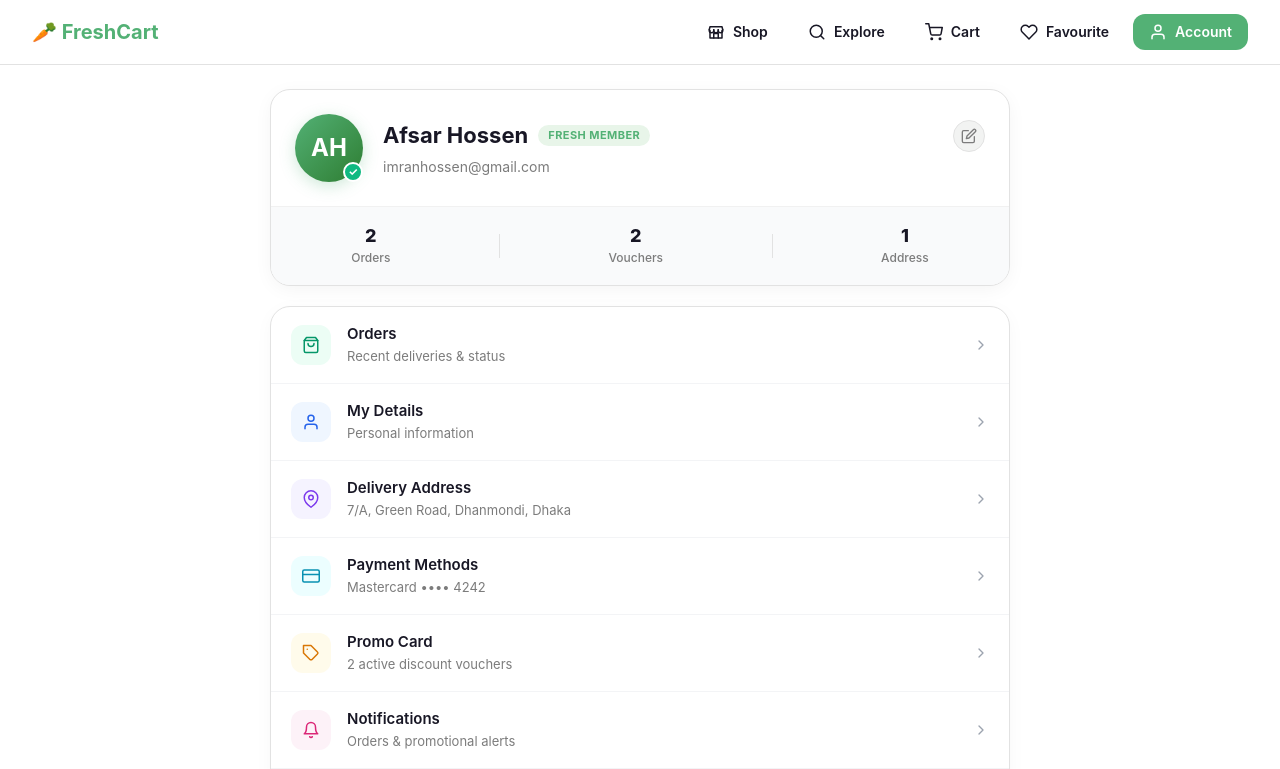
Test case: AccountPage › opens Orders modal with recent delivery history
Click the button "Orders Recent deliveries & status" at (311, 345), box [271,307,1009,383]
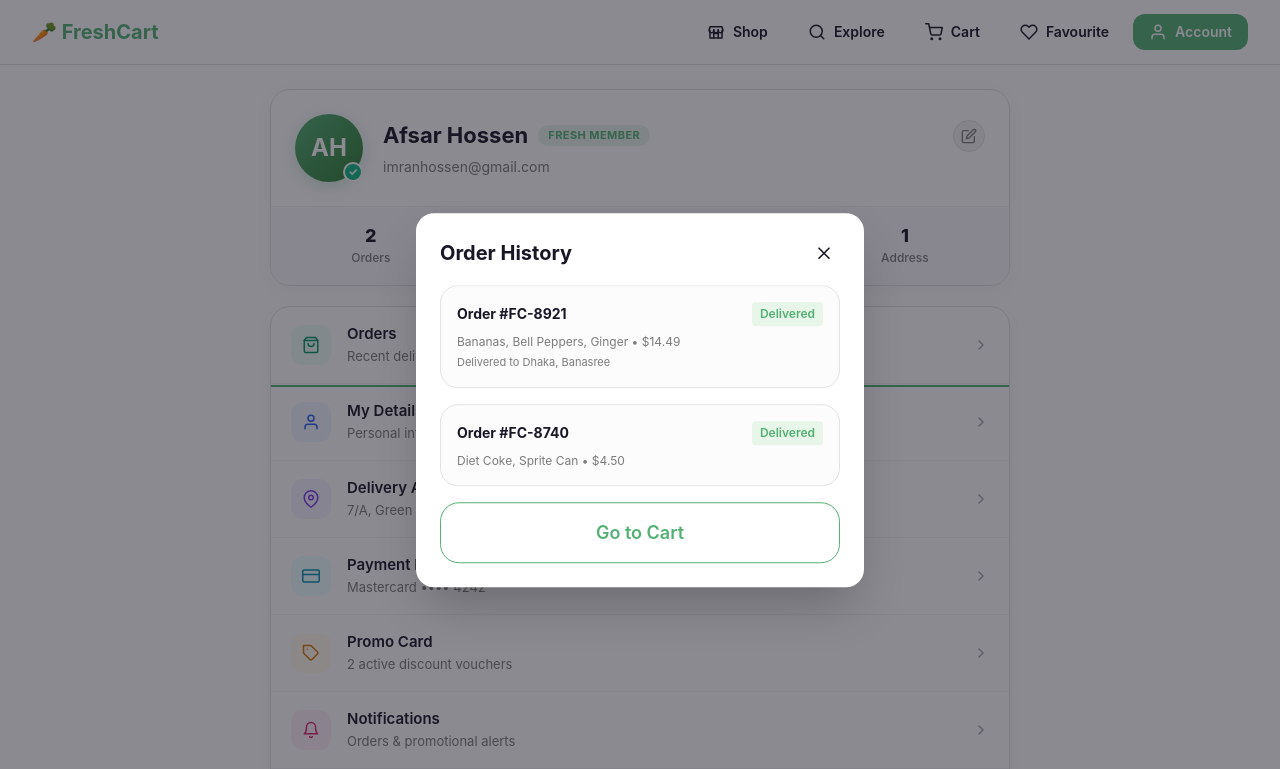
Now the heading "Order History" is shown, box [440,239,572,267]
Now the text "Order #FC-8921" is shown, box [457,304,567,324]
Now the text "Bananas, Bell Peppers, Ginger • $14.49" is shown, box [457,334,680,349]
